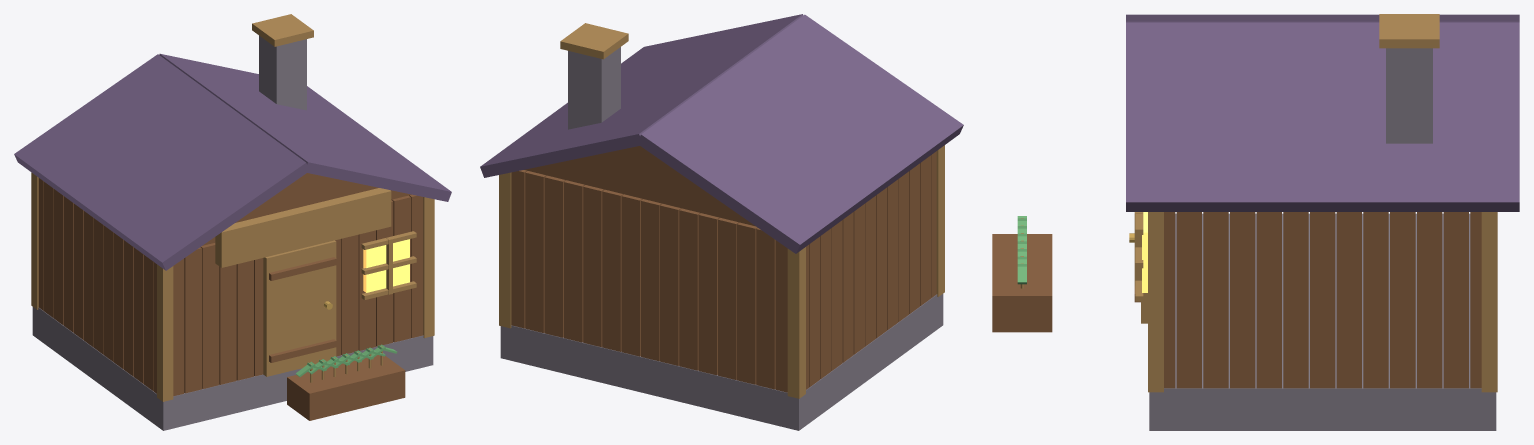
Rendered from wiggle-shed.glb.
3 renders of one model, left to right at view 1: azimuth 30°, elevation 25°; view 2: azimuth 150°, elevation 25°; view 3: azimuth 270°, elevation 25°, orthographic. The views are drawn at different scales.
Parts seen in each view (by area): view 1: Wiggle_Asset; view 2: Wiggle_Asset; view 3: Wiggle_Asset.
Part boxes in pixels (x1,y1,x2,y2): Wiggle_Asset: [14, 14, 451, 430]; Wiggle_Asset: [480, 14, 963, 430]; Wiggle_Asset: [992, 14, 1519, 430].
Bounding box in the file's own units: 6.65 × 6.12 × 7.9.
